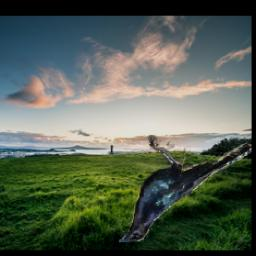Crow: (119, 136, 252, 243)
